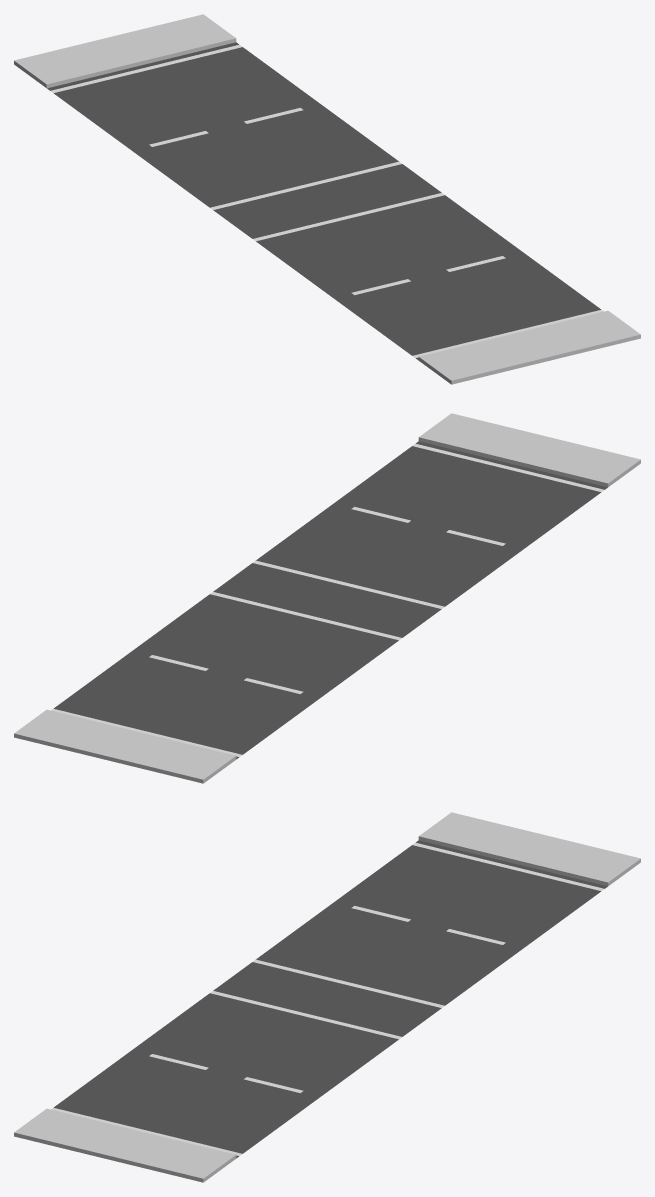
File: SPW_Urban_Road 4way_01.gltf
3 renders of one model, top to bottom at view 1: azimuth 30°, elevation 25°; view 2: azimuth 150°, elevation 25°; view 3: azimuth 330°, elevation 25°, orthographic.
Parts seen in each view (by area): view 1: SPW_Urban_Road_4way_01; view 2: SPW_Urban_Road_4way_01; view 3: SPW_Urban_Road_4way_01.
Part boxes in pixels (x1,y1,x2,y2): SPW_Urban_Road_4way_01: (14,14,640,384); SPW_Urban_Road_4way_01: (14,413,640,783); SPW_Urban_Road_4way_01: (14,812,640,1182).
Size of the model in its own units: 394 by 7.87 by 1575.
1 material, 1 textured.
